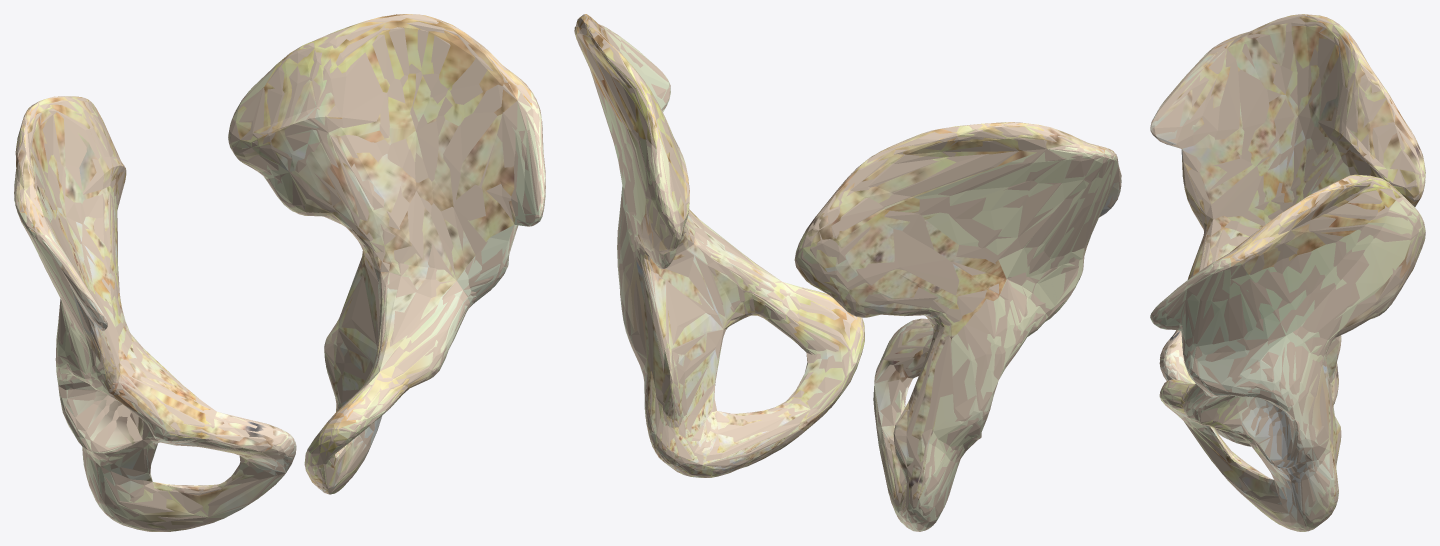
File: spine.obj
3 renders of one model, left to right at view 1: azimuth 30°, elevation 25°; view 2: azimuth 150°, elevation 25°; view 3: azimuth 270°, elevation 25°, orthographic. The views are drawn at different scales.
Visible parts, largest first — view 1: Esqueleto_Esqueleto1_Torso.030; view 2: Esqueleto_Esqueleto1_Torso.030; view 3: Esqueleto_Esqueleto1_Torso.030.
Boxes of the visible parts, bbox=[...] form: Esqueleto_Esqueleto1_Torso.030: bbox=[14, 14, 545, 531]; Esqueleto_Esqueleto1_Torso.030: bbox=[574, 14, 1121, 531]; Esqueleto_Esqueleto1_Torso.030: bbox=[1150, 14, 1425, 531].
Bounding box in the file's own units: 0.4954 × 0.3984 × 0.2593.
